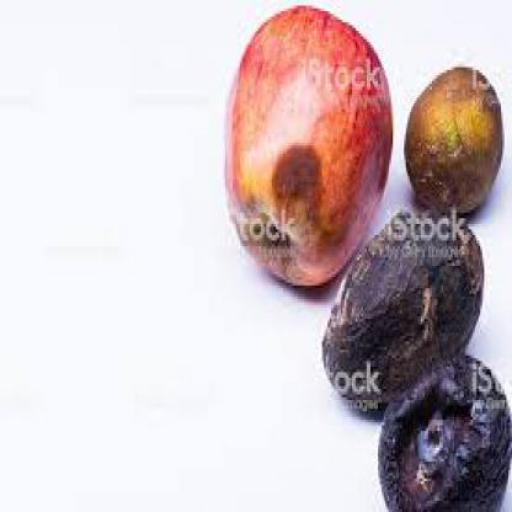biodegradable: (220, 0, 390, 283), (320, 204, 482, 420), (376, 347, 510, 510), (404, 64, 503, 210)
